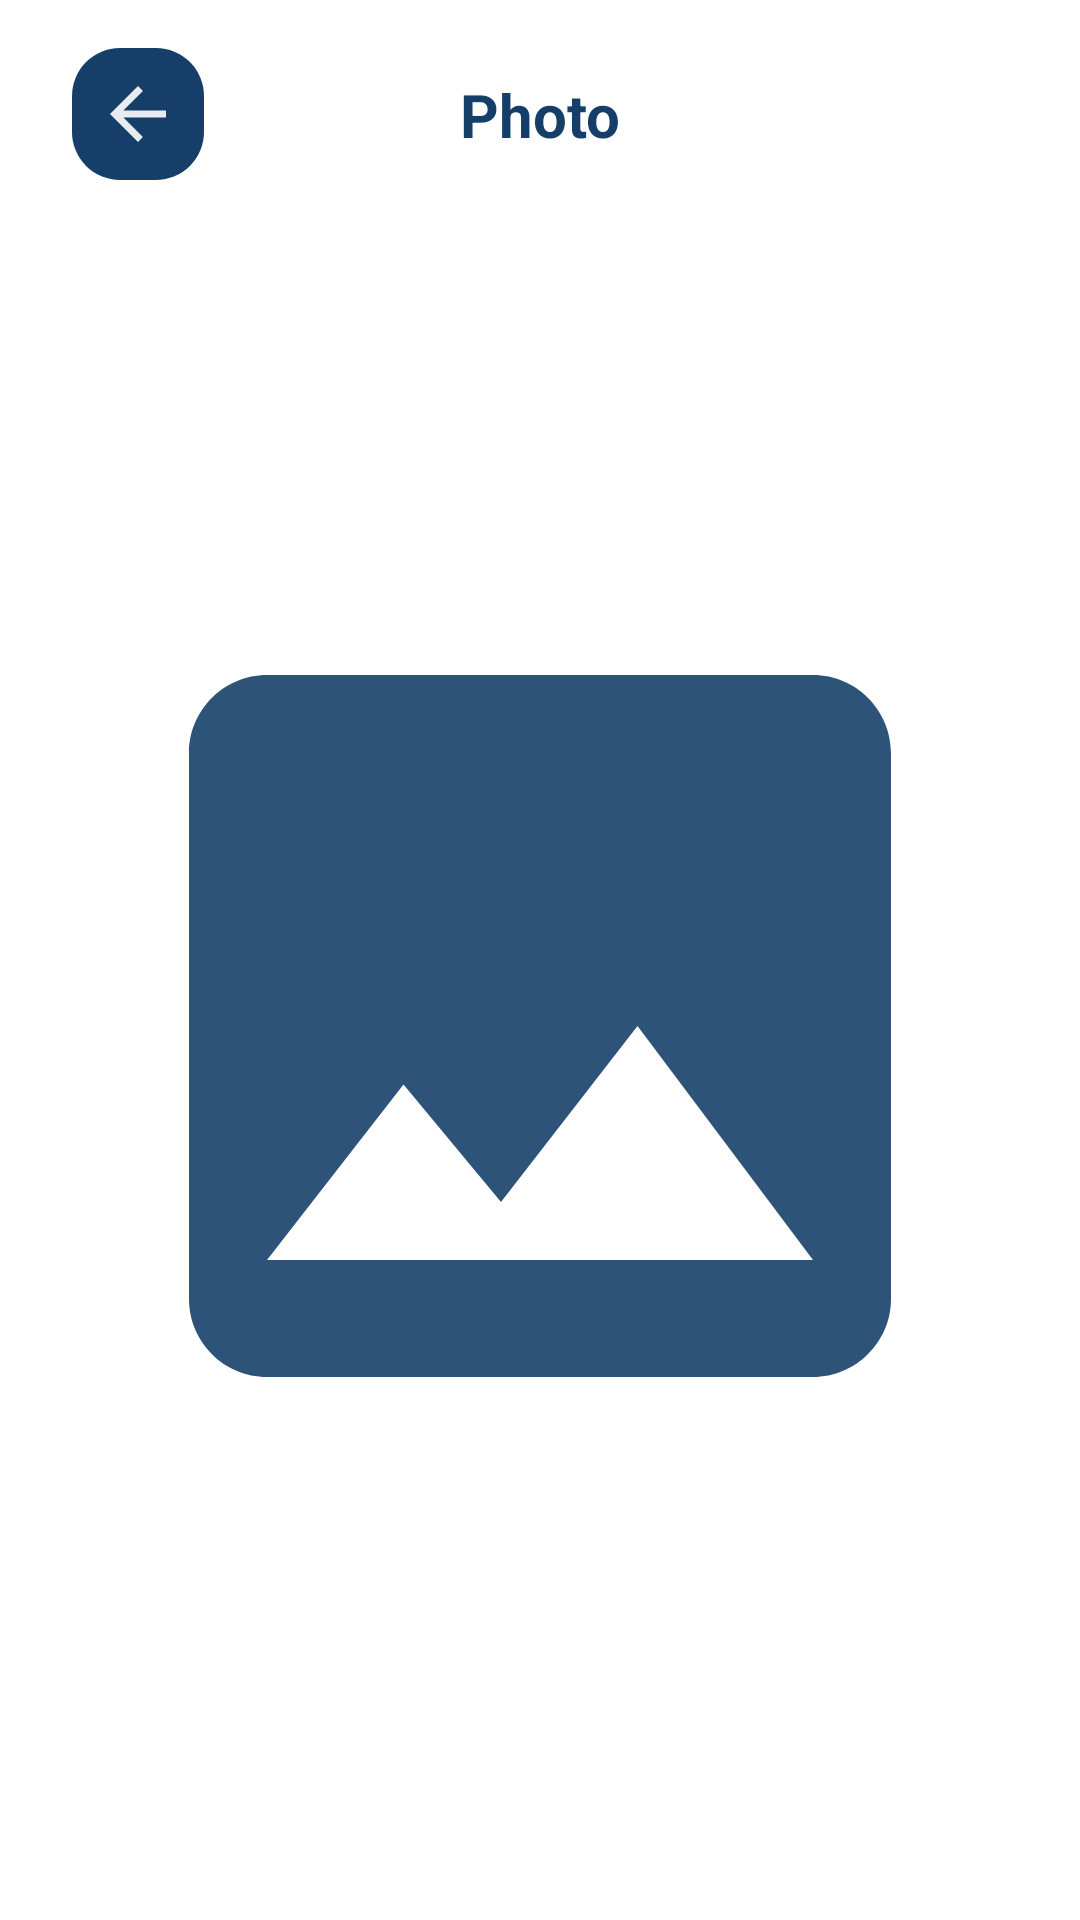

Icons on this 1080 × 1920 Android screen, each with the point to tap as [x,y]:
arrow back: [138,114]
